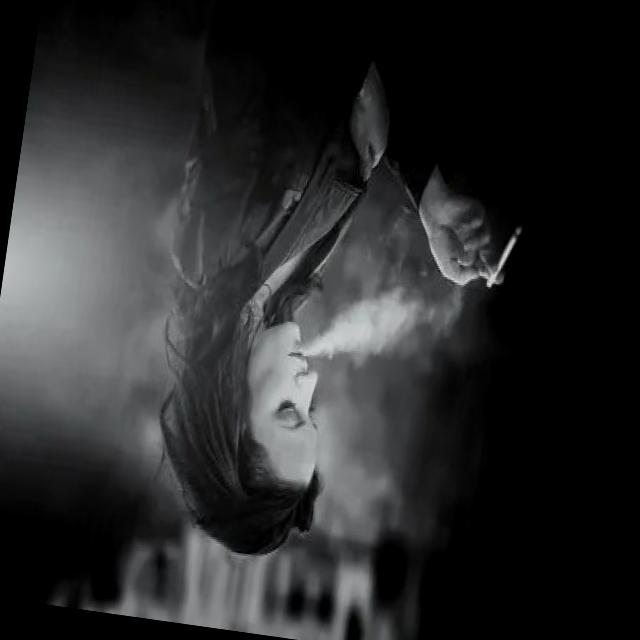smoke: (484, 218, 530, 296)
